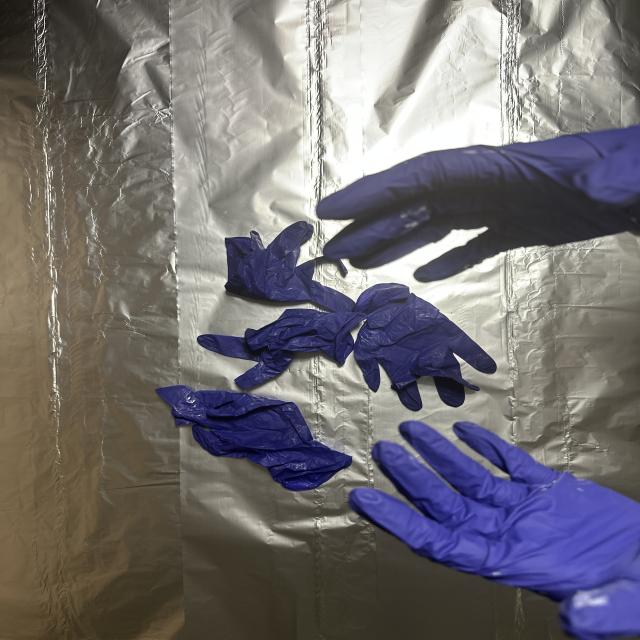gloves_contaminated: (350, 421, 640, 640), (316, 126, 640, 282)
